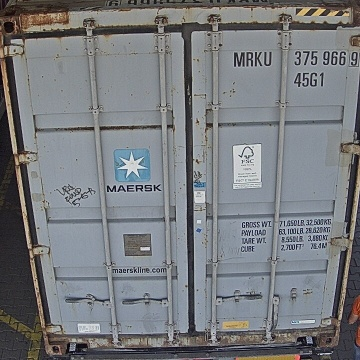serial_id: (234, 50, 360, 66)
